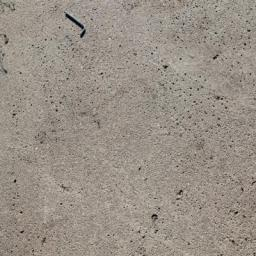FOD: (62, 11, 91, 40)
